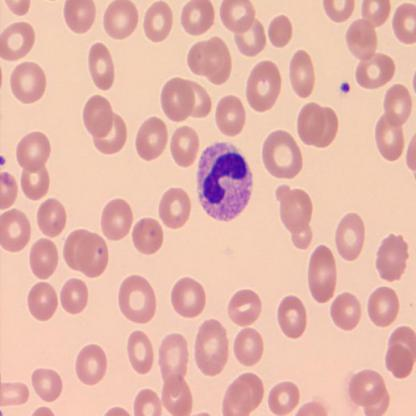Band Neutrophil: (194, 140, 256, 225)
